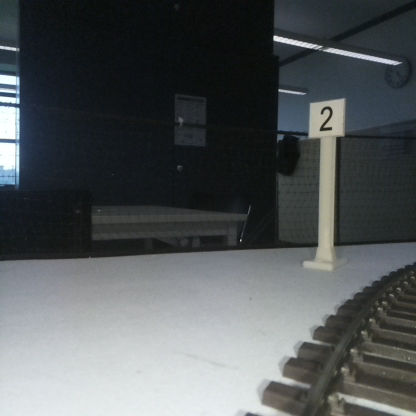white-info-2: (310, 99, 344, 269)
